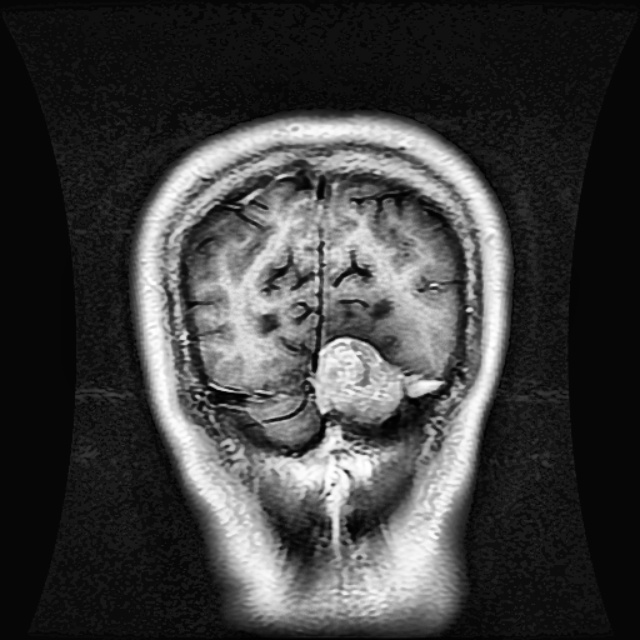Glioma: (310, 333, 444, 429)
